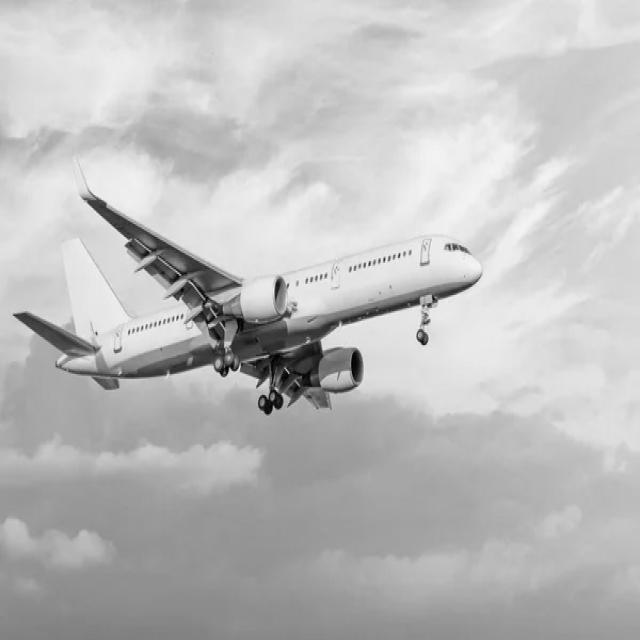Aircraft: (22, 168, 484, 417)
